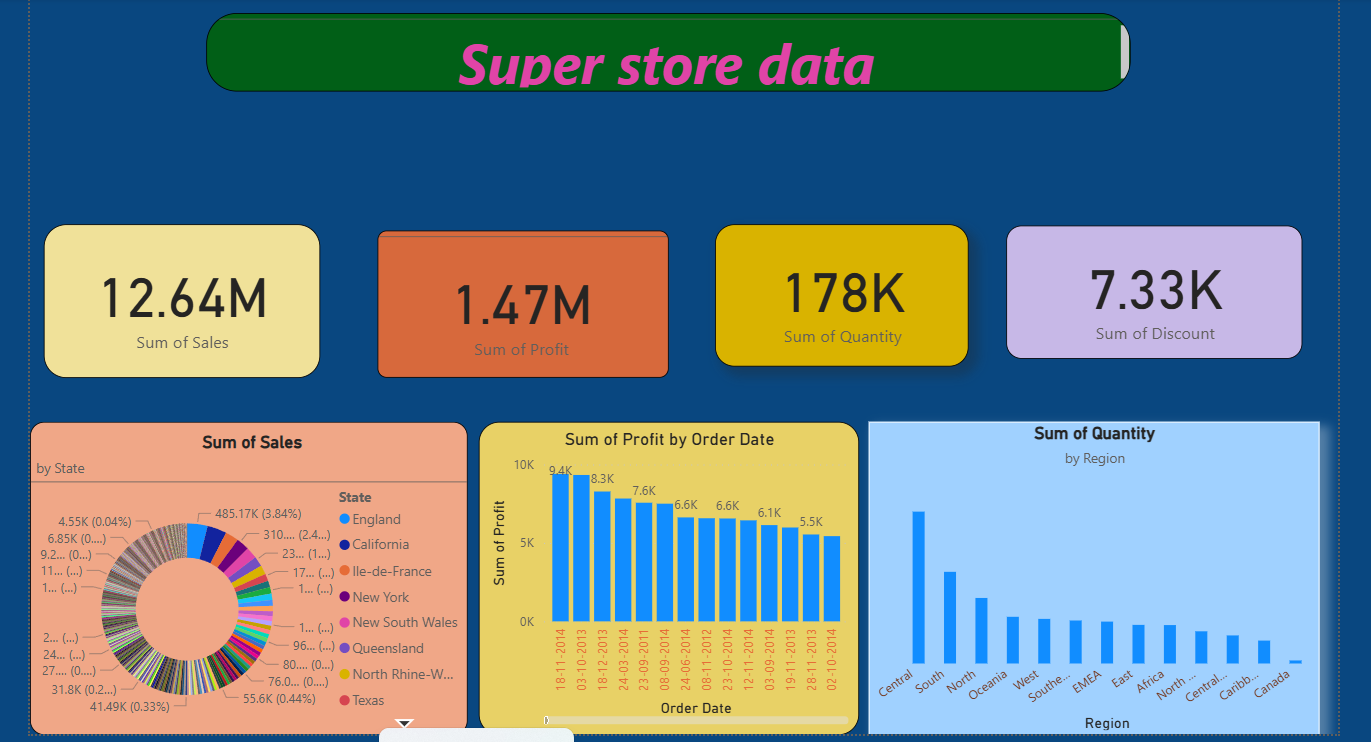

This screenshot's page, from the dashboard's own definition file:
{"tool":"powerbi","page":{"name":"Page 1","canvas":[1280,720],"ordinal":0},"visuals":[{"type":"columnChart","fields":{"Category":["Orders.Order Date"],"Y":["Sum(Orders.Profit)"]},"box":[439.1,414.4,371.9,306],"z":0},{"type":"card","fields":{"Values":["Sum(Orders.Profit)"]},"box":[339.8,227.4,284.8,144.2],"z":1000},{"type":"donutChart","fields":{"Y":["Sum(Orders.Sales)"],"Category":["Orders.State"]},"box":[0,414.4,428.1,306],"z":2000},{"type":"card","fields":{"Values":["Sum(Orders.Quantity)"]},"box":[669.9,221.3,248.1,139.4],"z":3000},{"type":"ribbonChart","fields":{"Category":["Orders.Region"],"Y":["Sum(Orders.Quantity)"]},"box":[820.6,414.4,440.5,306],"z":4000},{"type":"card","fields":{"Values":["Sum(Orders.Sales)"]},"box":[13.4,221.3,270.2,150.4],"z":5000},{"type":"card","fields":{"Values":["Sum(Orders.Discount)"]},"box":[955.1,222.3,289.5,130.4],"z":6000},{"type":"textbox","box":[172.9,15.1,904.3,76.8],"z":7000}]}

Visuals, with their boxes in screenshot pixels (x1, y1, x2, y2):
columnChart - Orders.Order Date x Sum(Orders.Profit): box=[475, 418, 853, 729]
card - Sum(Orders.Profit): box=[374, 228, 664, 374]
donutChart - Sum(Orders.Sales) x Orders.State: box=[29, 418, 464, 729]
card - Sum(Orders.Quantity): box=[710, 222, 962, 363]
ribbonChart - Orders.Region x Sum(Orders.Quantity): box=[863, 418, 1311, 729]
card - Sum(Orders.Sales): box=[42, 222, 317, 375]
card - Sum(Orders.Discount): box=[1000, 223, 1295, 355]
textbox: box=[204, 12, 1124, 90]
